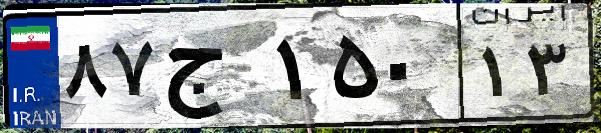0: (385, 28, 445, 110)
1: (270, 28, 330, 110), (475, 38, 525, 113)
3: (525, 38, 570, 115)
5: (330, 28, 385, 110)
7: (110, 28, 158, 98)
8: (57, 26, 110, 100)
ج: (158, 20, 270, 120)
